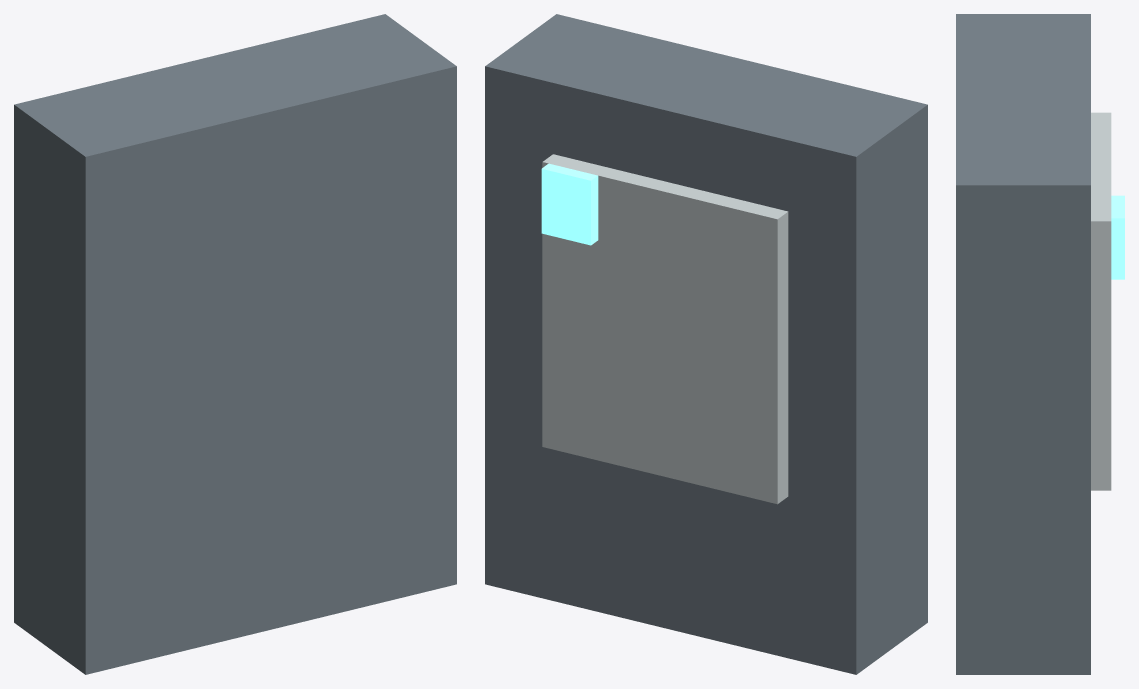
The model's file is np_z03_commun_equipement_mural.glb.
3 renders of one model, left to right at view 1: azimuth 30°, elevation 25°; view 2: azimuth 150°, elevation 25°; view 3: azimuth 270°, elevation 25°, orthographic. The views are drawn at different scales.
Parts seen in each view (by area): view 1: Corps; view 2: Corps, Panneau, Indicateur; view 3: Corps, Panneau, Indicateur.
Part boxes in pixels (x1=…): Corps: x1=14, y1=14, x2=456, y2=674; Corps: x1=485, y1=14, x2=927, y2=674; Panneau: x1=542, y1=154, x2=788, y2=504; Indicateur: x1=541, y1=163, x2=598, y2=245; Corps: x1=956, y1=14, x2=1090, y2=674; Panneau: x1=1091, y1=112, x2=1111, y2=490; Indicateur: x1=1111, y1=195, x2=1124, y2=279.
Bounding box in the file's own units: 0.6 × 0.8 × 0.25.
